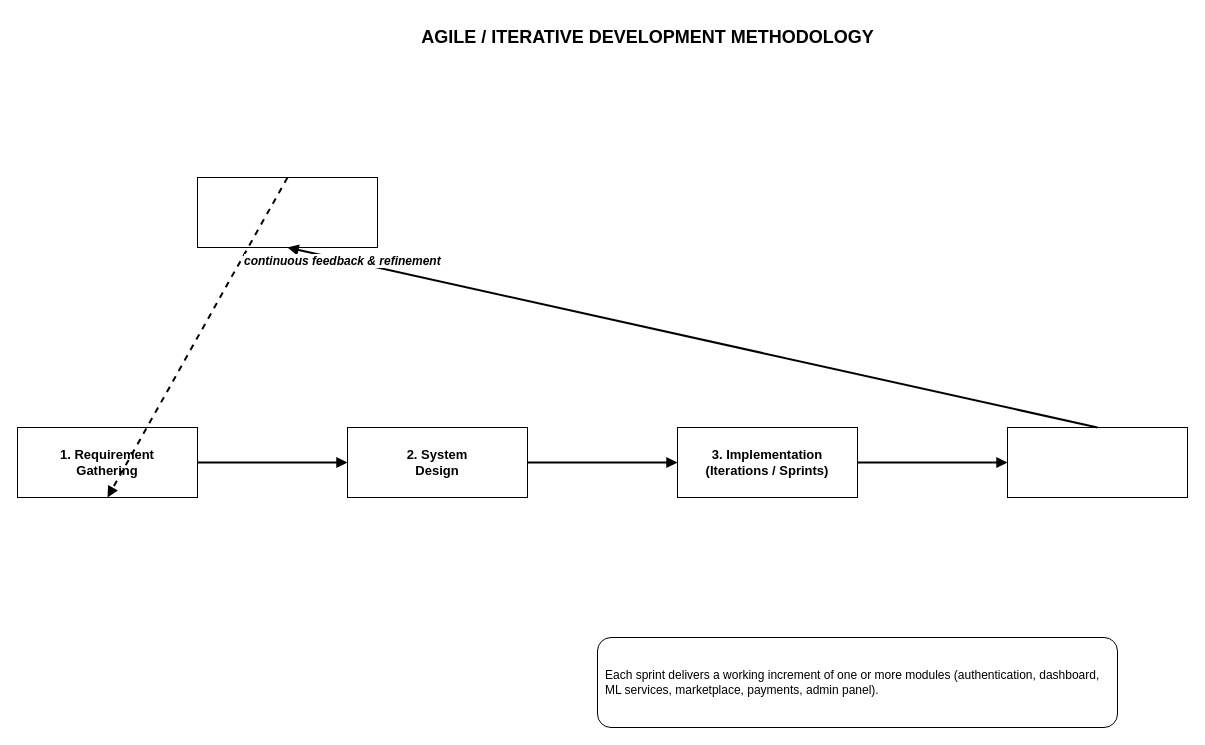
The diagram is 1205 pixels wide and 745 high, and some of its shapes have lost their labels. The shapes that lost their labels are listed below. From the top down, each one's centre as x and y in pixels, then its label:
(x=287, y=212): 5. Deployment & Maintenance
(x=1097, y=462): 4. Testing & Evaluation
